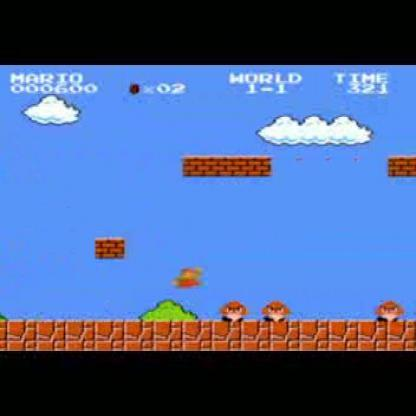Goomba: (258, 298, 294, 322), (216, 299, 250, 320), (376, 298, 404, 322)
